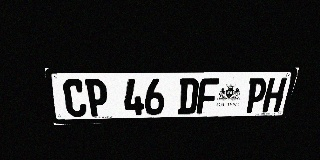4: (123, 79, 144, 116)
6: (145, 79, 165, 115)
C: (62, 79, 88, 117)
D: (177, 78, 199, 114)
F: (196, 78, 219, 114)
H: (262, 78, 287, 112)
P: (85, 79, 109, 117), (244, 78, 269, 113)
